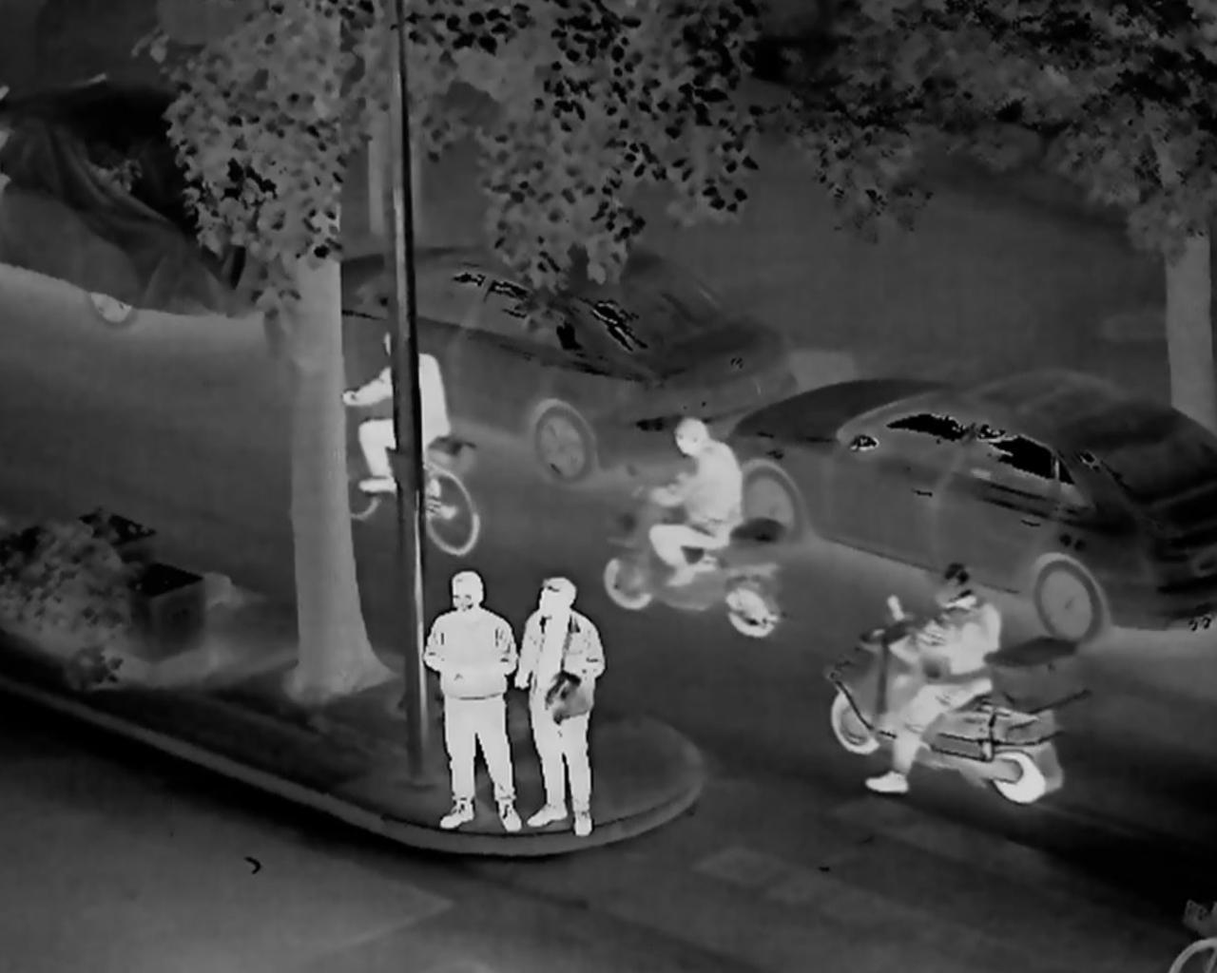person: (877, 561, 991, 841), (406, 571, 528, 832), (514, 556, 616, 864), (337, 314, 456, 513), (647, 408, 756, 587)
